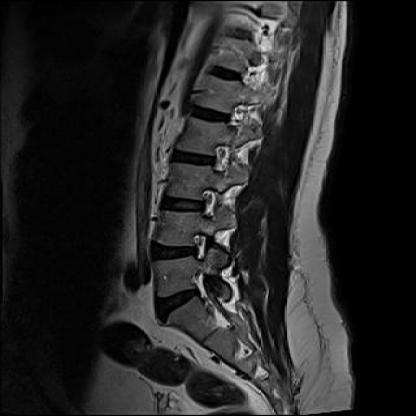Disc Bulgerotation: (147, 287, 209, 324), (145, 238, 207, 265)
